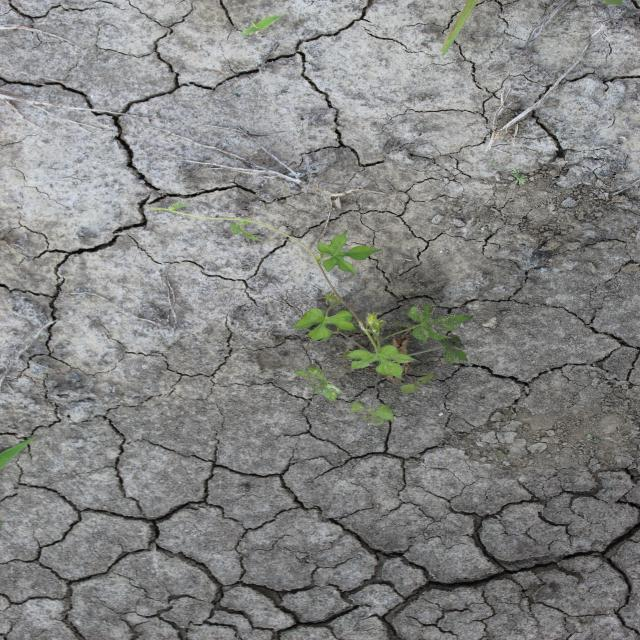MorningGlory: (149, 199, 476, 427)
